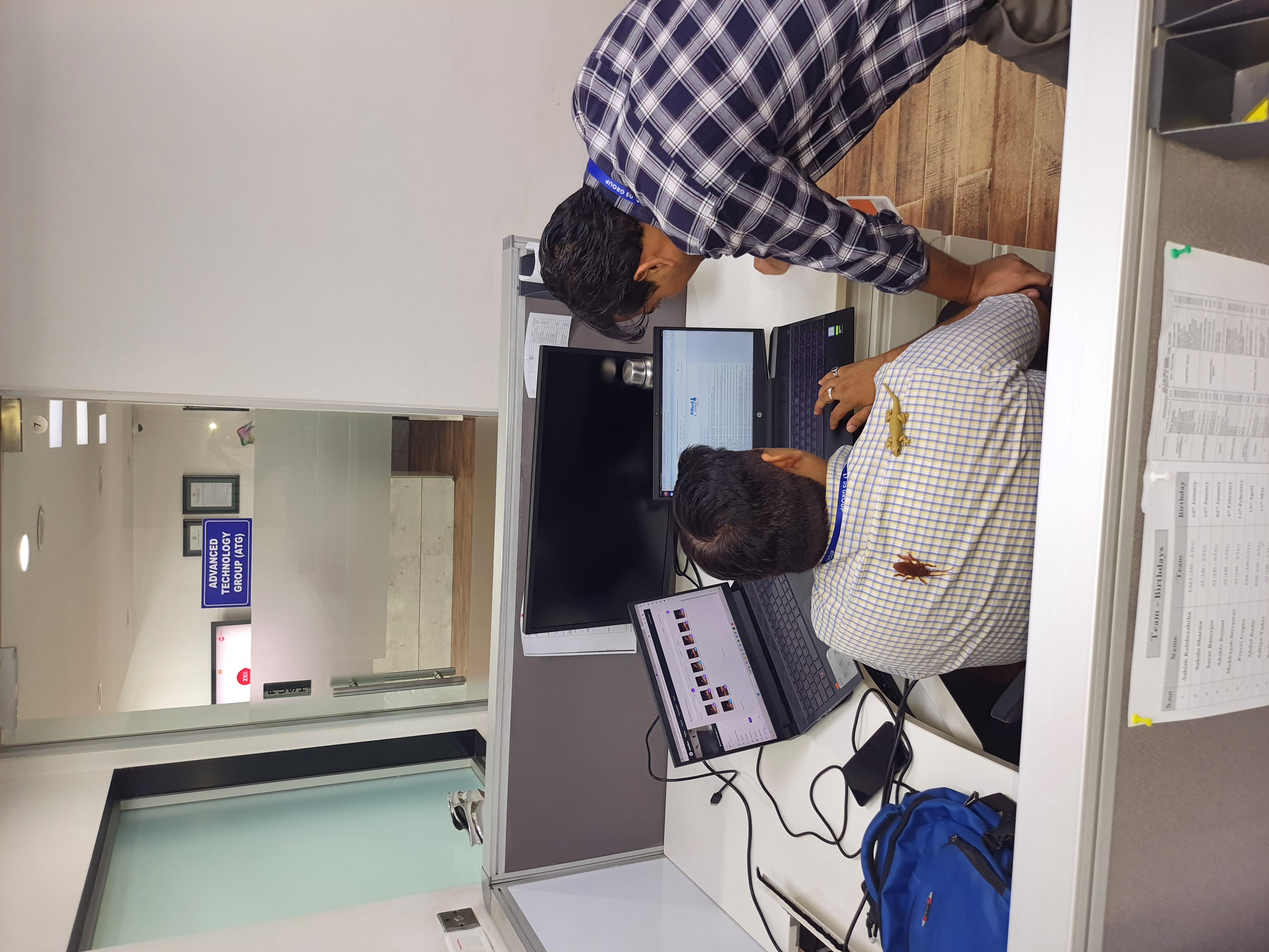cockroach: (487, 661, 548, 710)
lizard: (648, 657, 785, 689)
